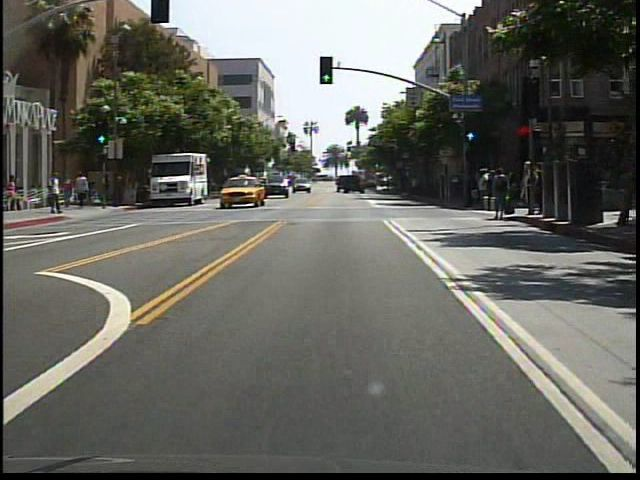person: (489, 165, 512, 224), (49, 168, 65, 216), (76, 168, 93, 209), (4, 174, 22, 212), (63, 174, 76, 208)
